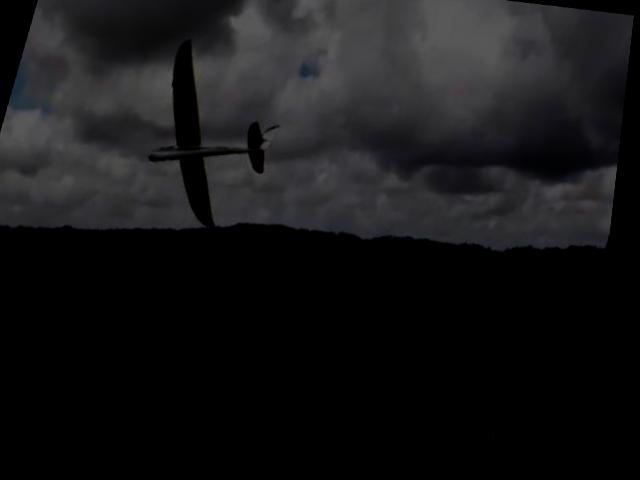iha: (116, 28, 302, 240)
